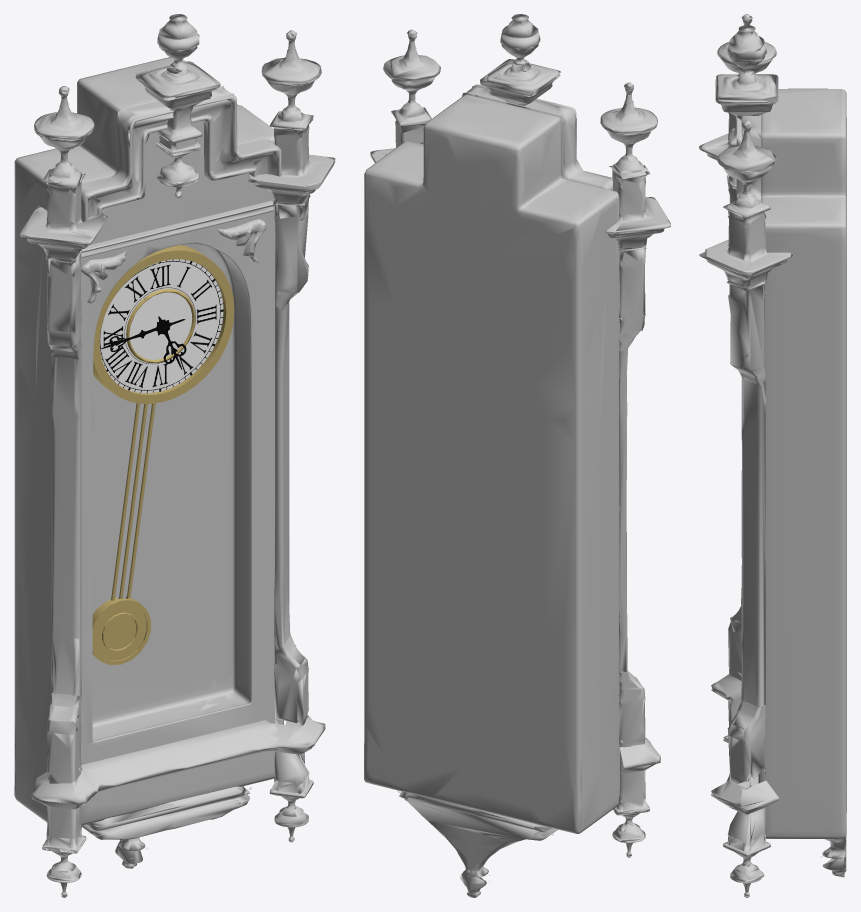
The model's file is Clock 1.FBX.
The picture shows the model from 3 angles, left to right: view 1: azimuth 30°, elevation 25°; view 2: azimuth 150°, elevation 25°; view 3: azimuth 270°, elevation 25°; orthographic projection. The views are drawn at different scales.
Parts seen in each view (by area): view 1: clock, pendulum clock; view 2: clock; view 3: clock.
Boxes of the visible parts, <box> form: clock: <box>14,14,335,897</box>; pendulum clock: <box>92,403,155,665</box>; clock: <box>364,14,670,897</box>; clock: <box>699,14,846,897</box>.
Size of the model in its own units: 49.08 by 132 by 20.85.
